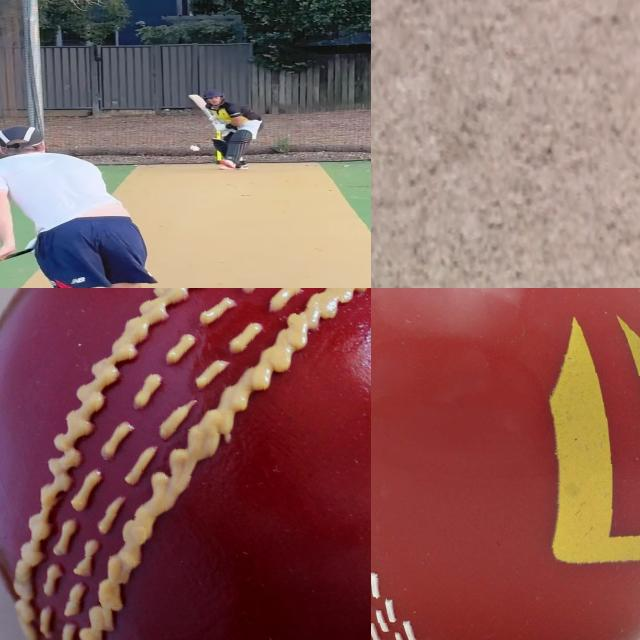Cricket ball: (0, 288, 371, 640), (371, 288, 640, 640), (187, 144, 203, 151)
